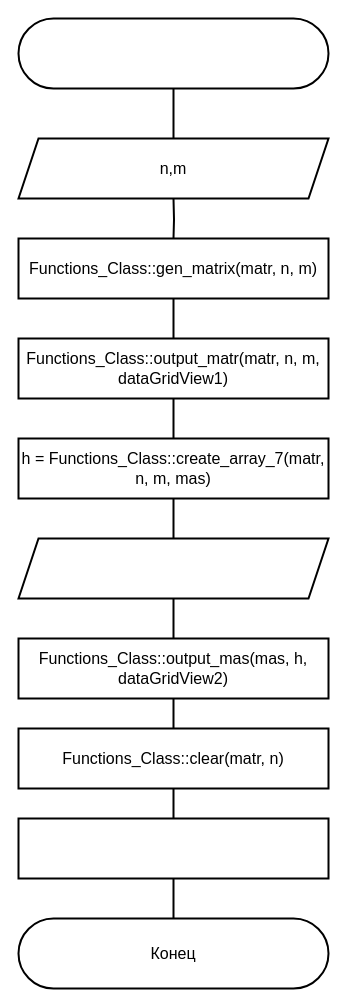
Image size: 346x1006. Some labels were removed from this diagram. The centre of each missing label's shape, as x and y in pixels:
CalculateButton_Click: point 173,53
delete[] mas: point 173,848
Functions_Class::get_mean(matr, n, m): point 173,568
